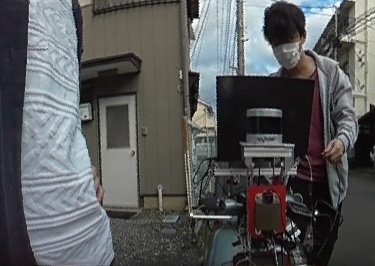person: (257, 2, 358, 266)
